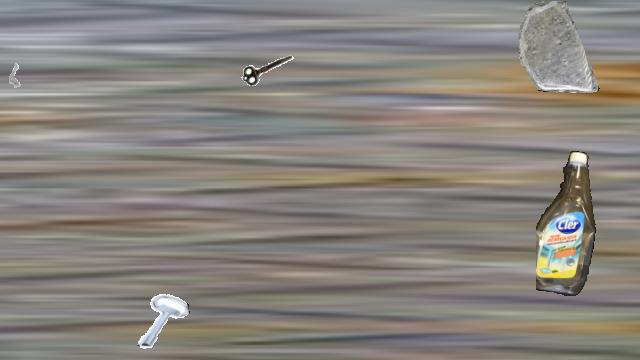glass: (513, 1, 605, 93)
metal: (130, 290, 190, 350), (239, 42, 297, 100), (0, 52, 34, 90)
plastic: (536, 151, 596, 295)
